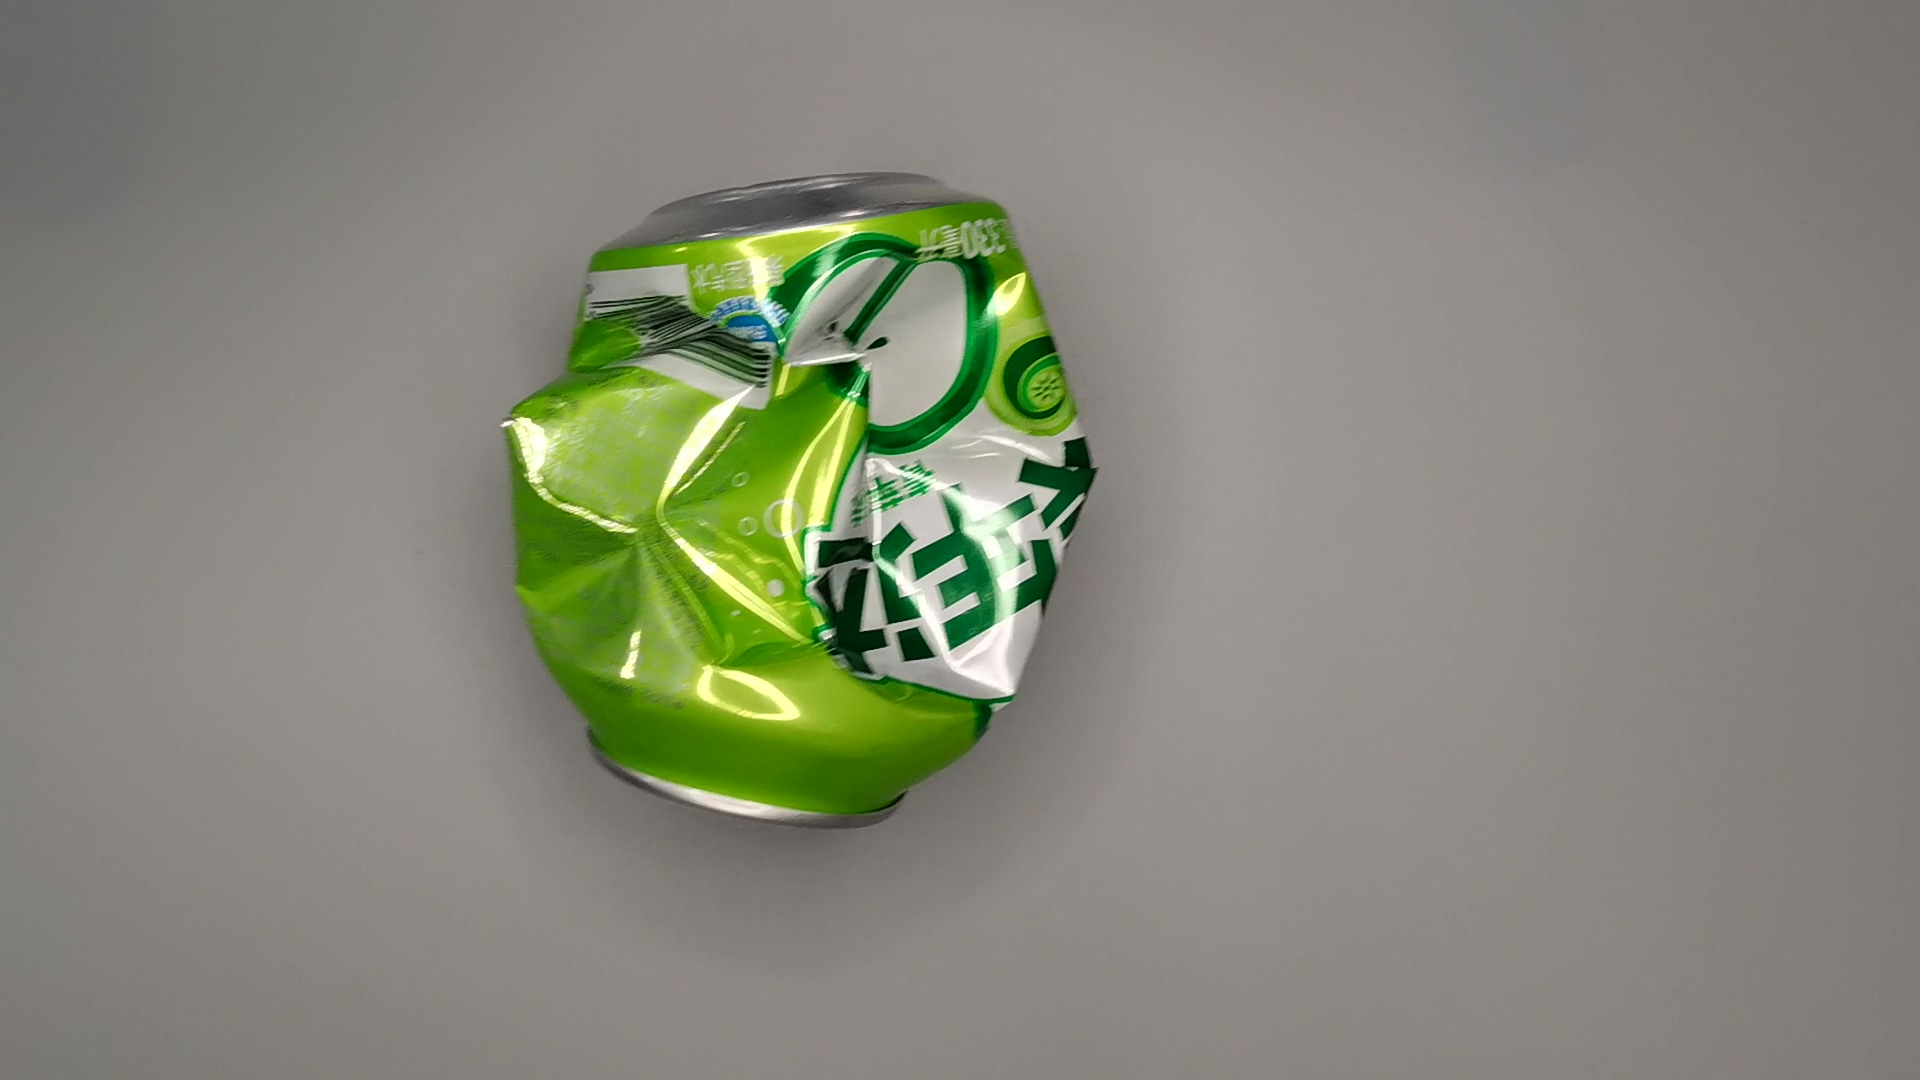can: (484, 161, 1117, 841)
